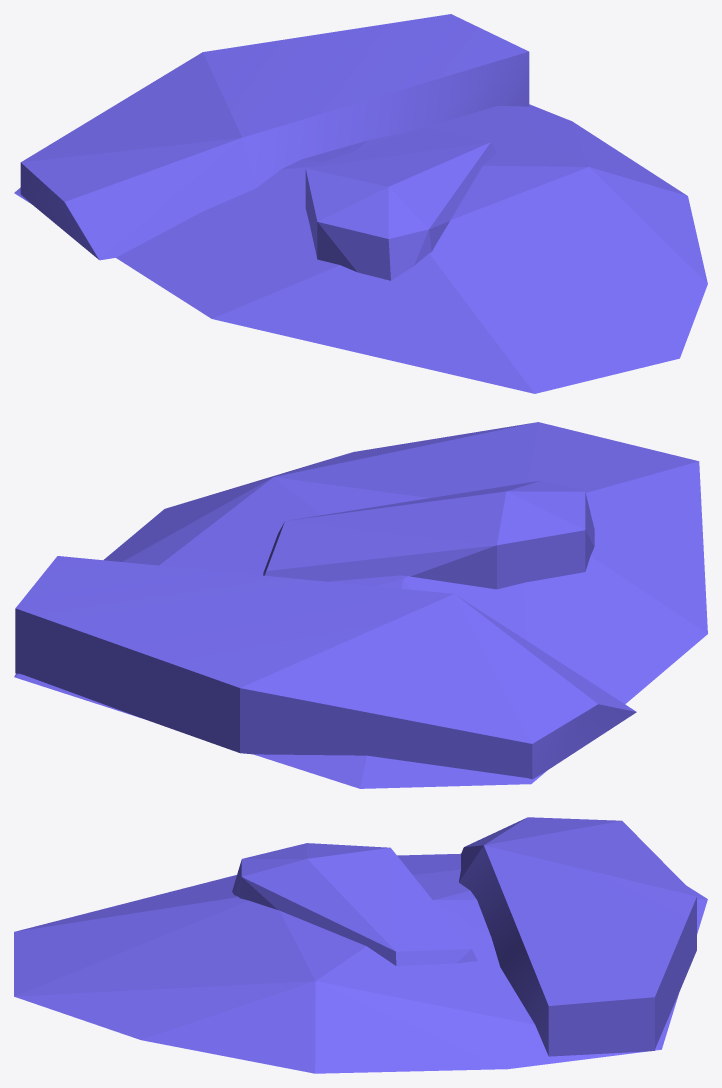
Rendered from Obstacle_06_Colllider_01.FBX.
3 views of the same model, one above another, from view 1: azimuth 30°, elevation 25°; view 2: azimuth 150°, elevation 25°; view 3: azimuth 270°, elevation 25° (orthographic). The views are drawn at different scales.
Parts seen in each view (by area): view 1: COLLIDER_1, COLLIDER_2, COLLIDER_3; view 2: COLLIDER_2, COLLIDER_1, COLLIDER_3; view 3: COLLIDER_1, COLLIDER_2, COLLIDER_3.
Boxes of the visible parts, x1=… form: COLLIDER_1: x1=14, y1=104, x2=707, y2=393; COLLIDER_2: x1=20, y1=14, x2=529, y2=260; COLLIDER_3: x1=305, y1=127, x2=496, y2=280; COLLIDER_2: x1=15, y1=556, x2=636, y2=779; COLLIDER_1: x1=14, y1=422, x2=707, y2=788; COLLIDER_3: x1=263, y1=480, x2=594, y2=589; COLLIDER_1: x1=14, y1=853, x2=707, y2=1073; COLLIDER_2: x1=459, y1=817, x2=696, y2=1056; COLLIDER_3: x1=232, y1=843, x2=477, y2=965.
Size of the model in its own units: 156 by 25.5 by 202.
